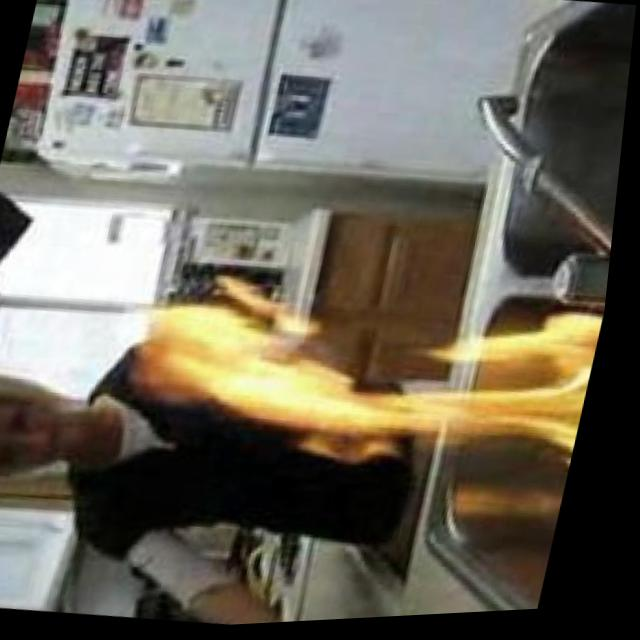Fire: (120, 262, 615, 507)
